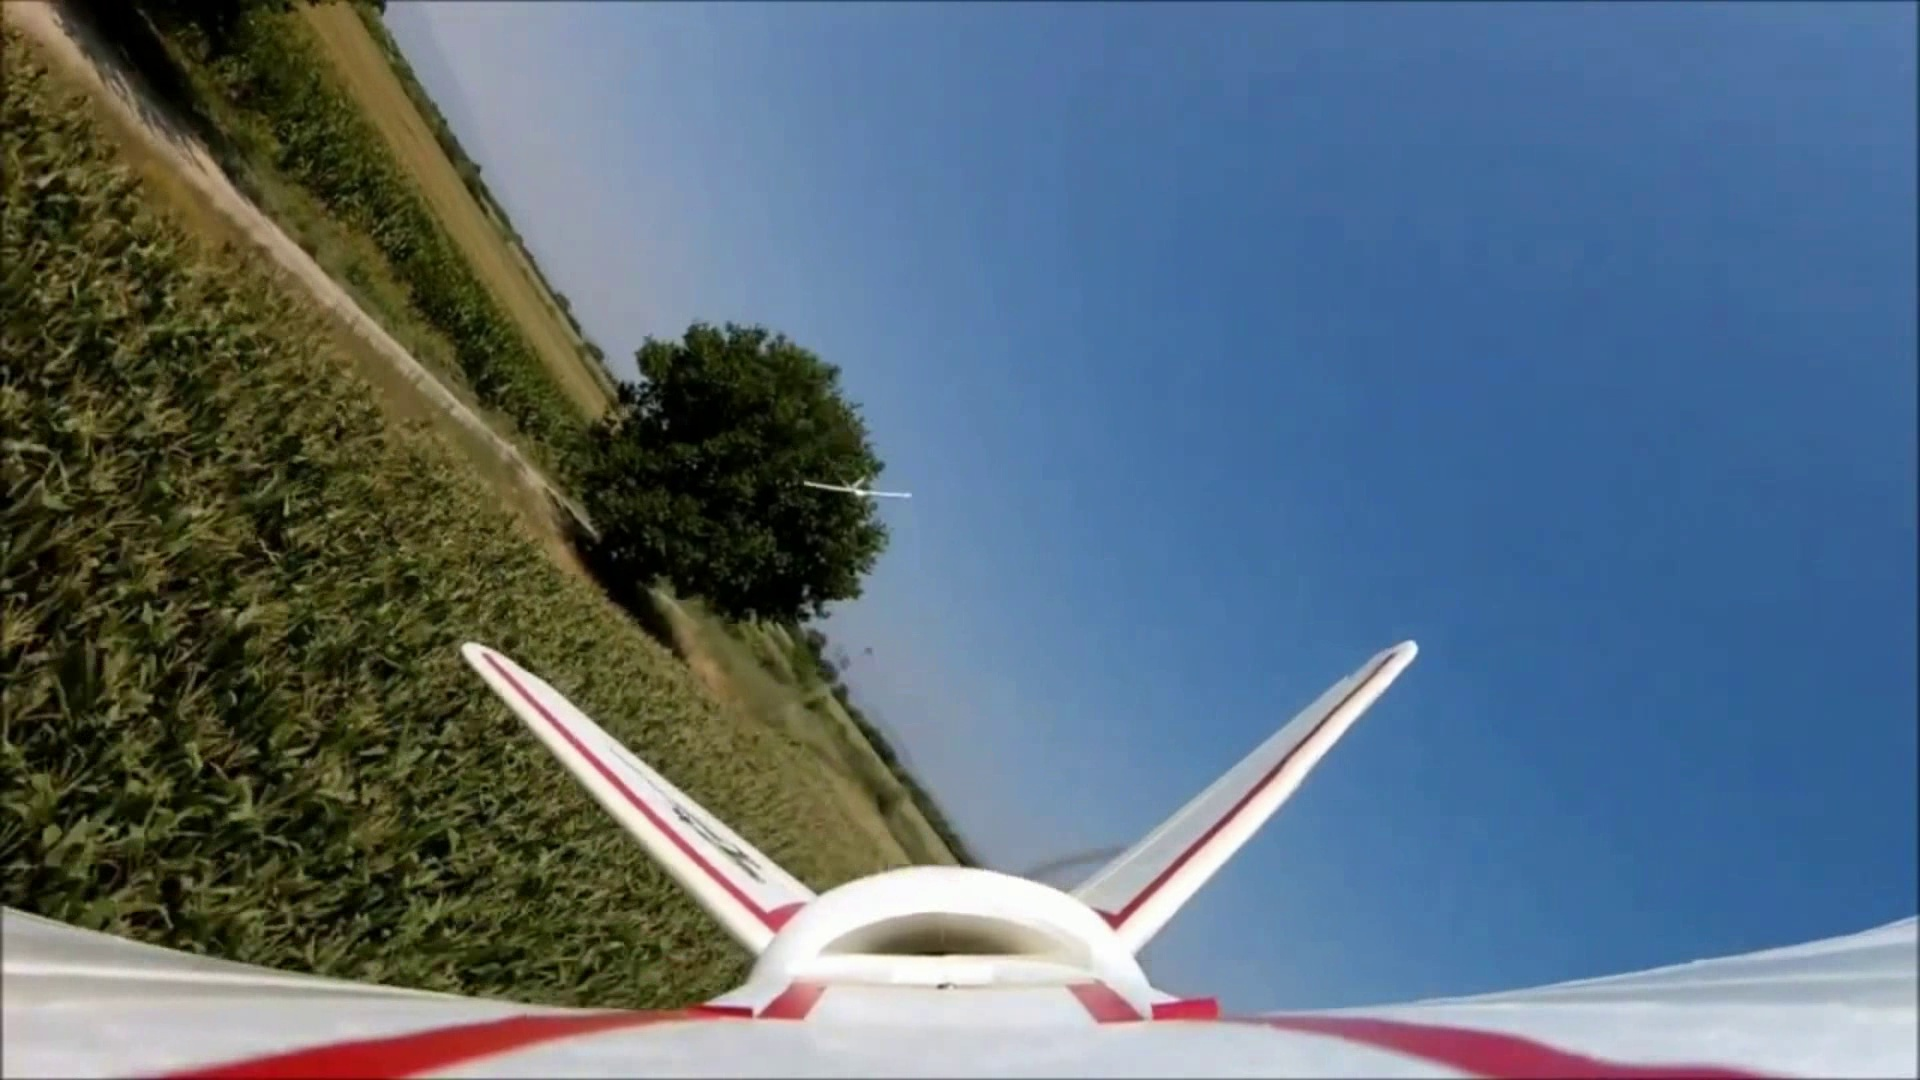airplane: (7, 632, 1617, 1052)
